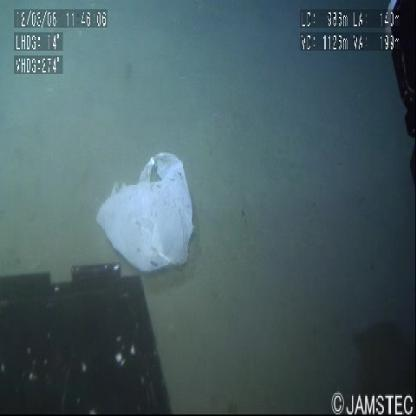Rov: (1, 249, 175, 416), (378, 5, 416, 170)
Rác: (87, 126, 201, 276)
